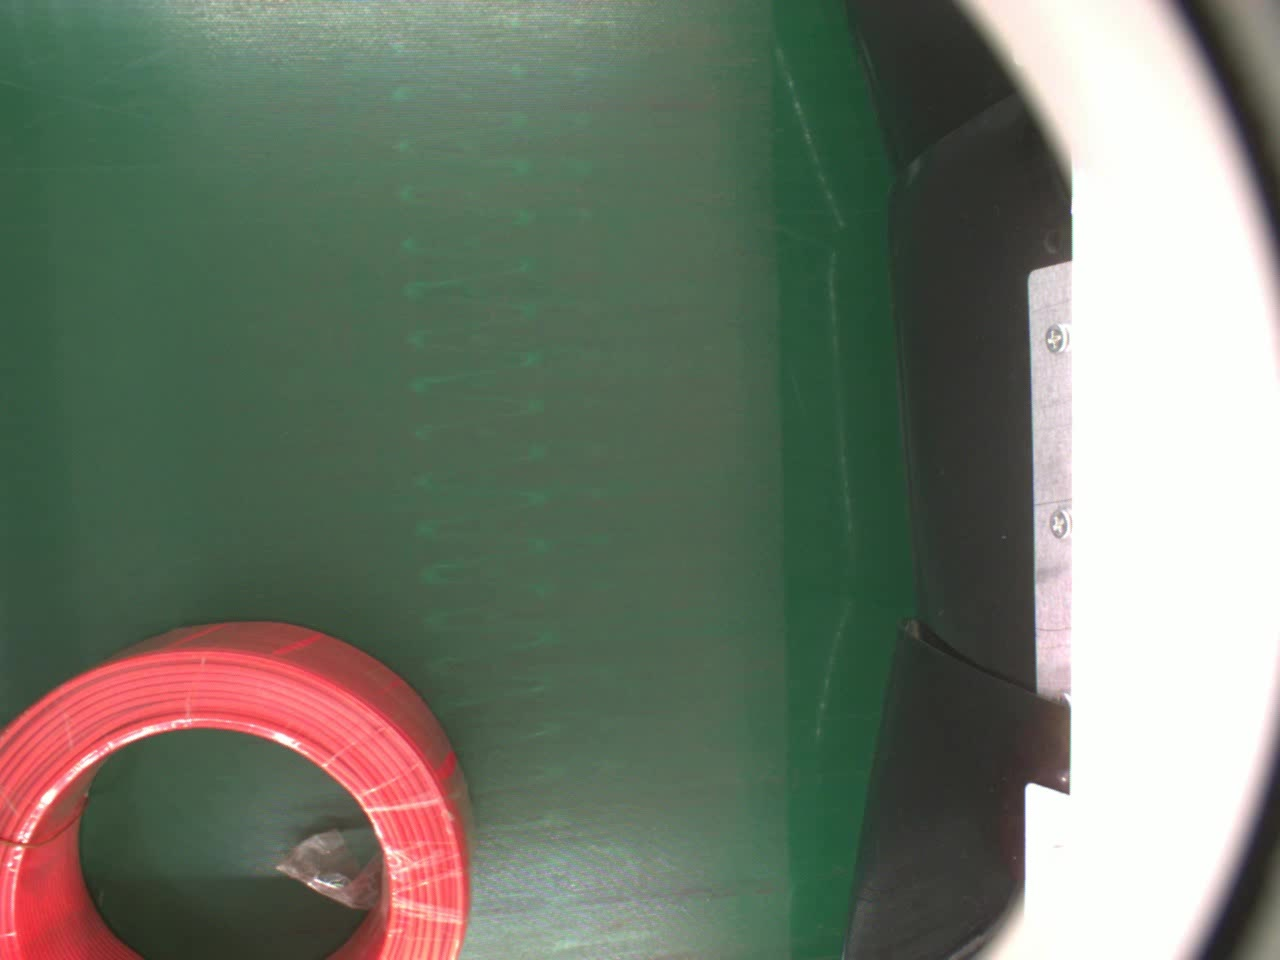red: (0, 621, 473, 960)
